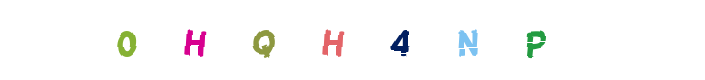0: (155, 0, 235, 80)
4: (361, 0, 441, 80)
H: (169, 0, 249, 80), (313, 0, 393, 80)
N: (412, 0, 492, 80)
P: (492, 0, 572, 80)
Q: (281, 0, 361, 80)
